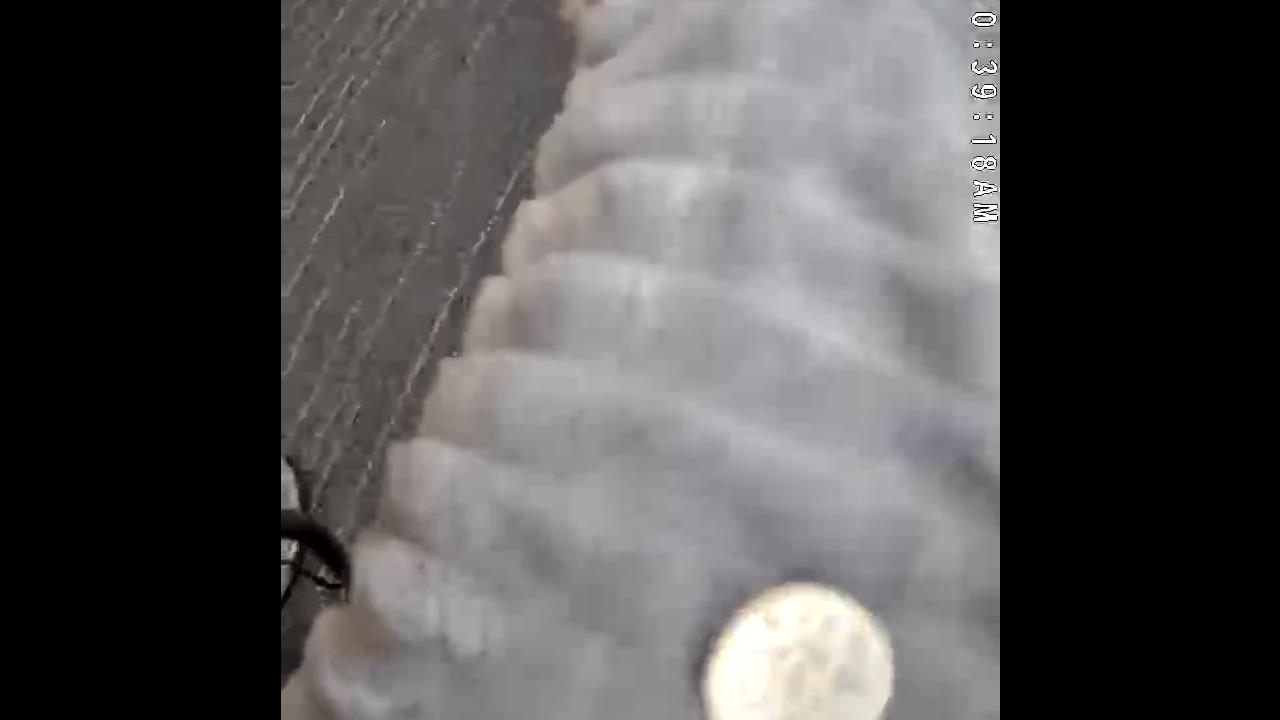coin: (689, 573, 899, 720)
